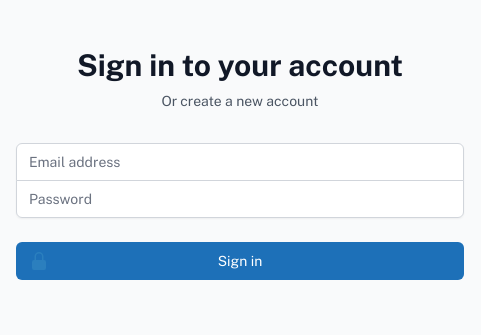
Test: Login › shows the error and stays put when login fails
Type "a@b.com" into the field labelled "Email address". click: (240, 162)
box: [16, 142, 464, 180]
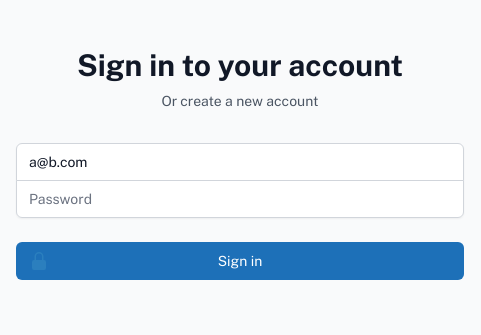
Type "wrongpass" into the password field labelled "Password". click: (240, 198)
box: [16, 180, 464, 218]
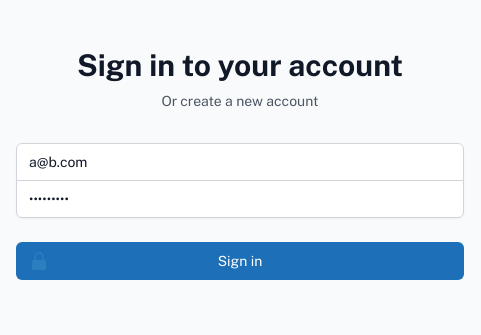
Click the button "Sign in". click: (240, 260)
box: [16, 242, 464, 280]
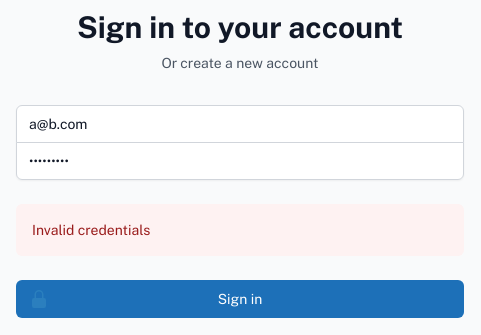
Result: the text "Invalid credentials" is shown at [32, 222, 150, 238]
